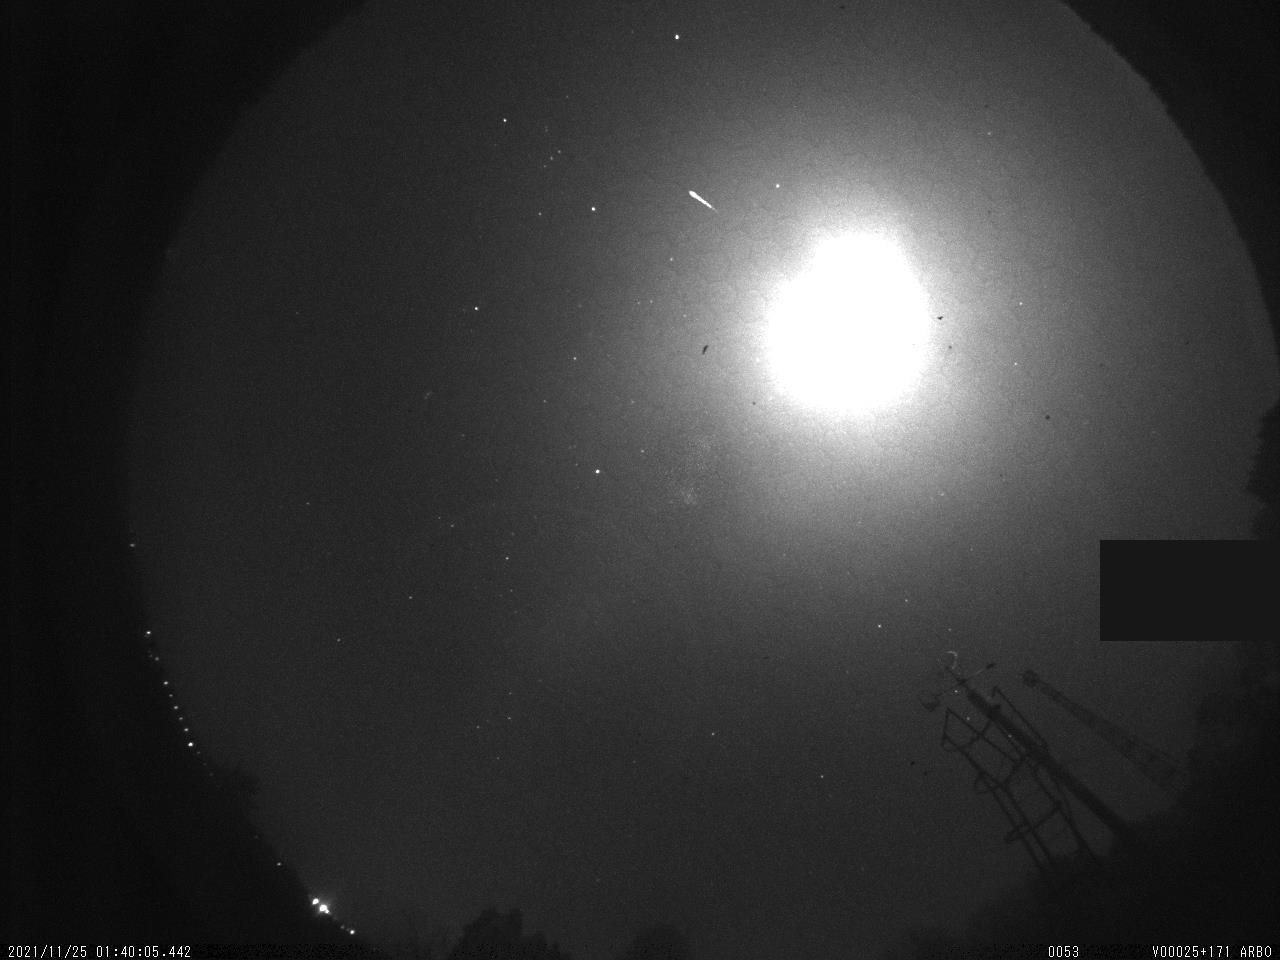meteor: (677, 170, 728, 222)
